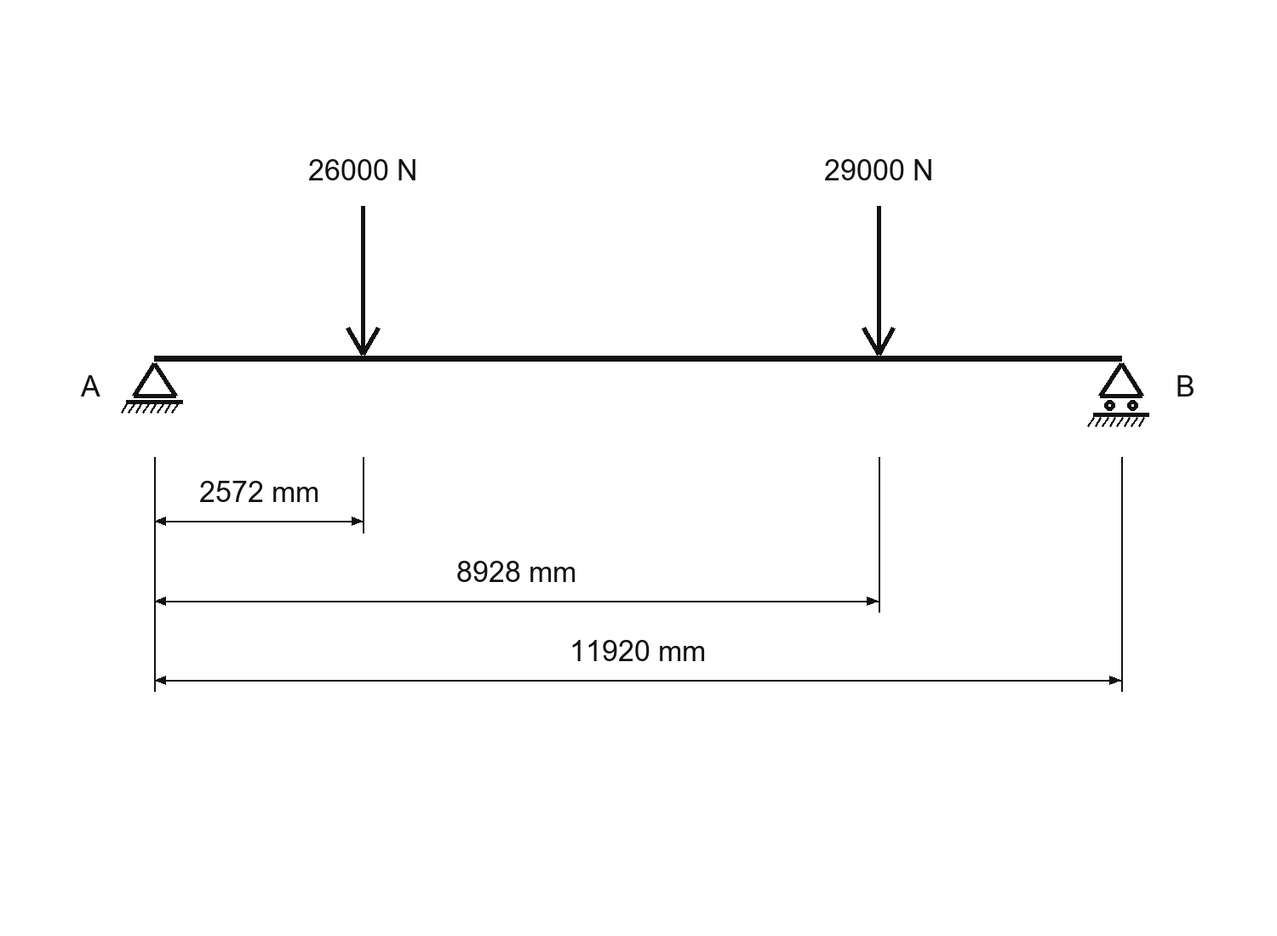pin_support: (121, 362, 183, 414)
point_load: (346, 206, 381, 356), (862, 206, 896, 356)
roller_support: (1087, 362, 1149, 427)
